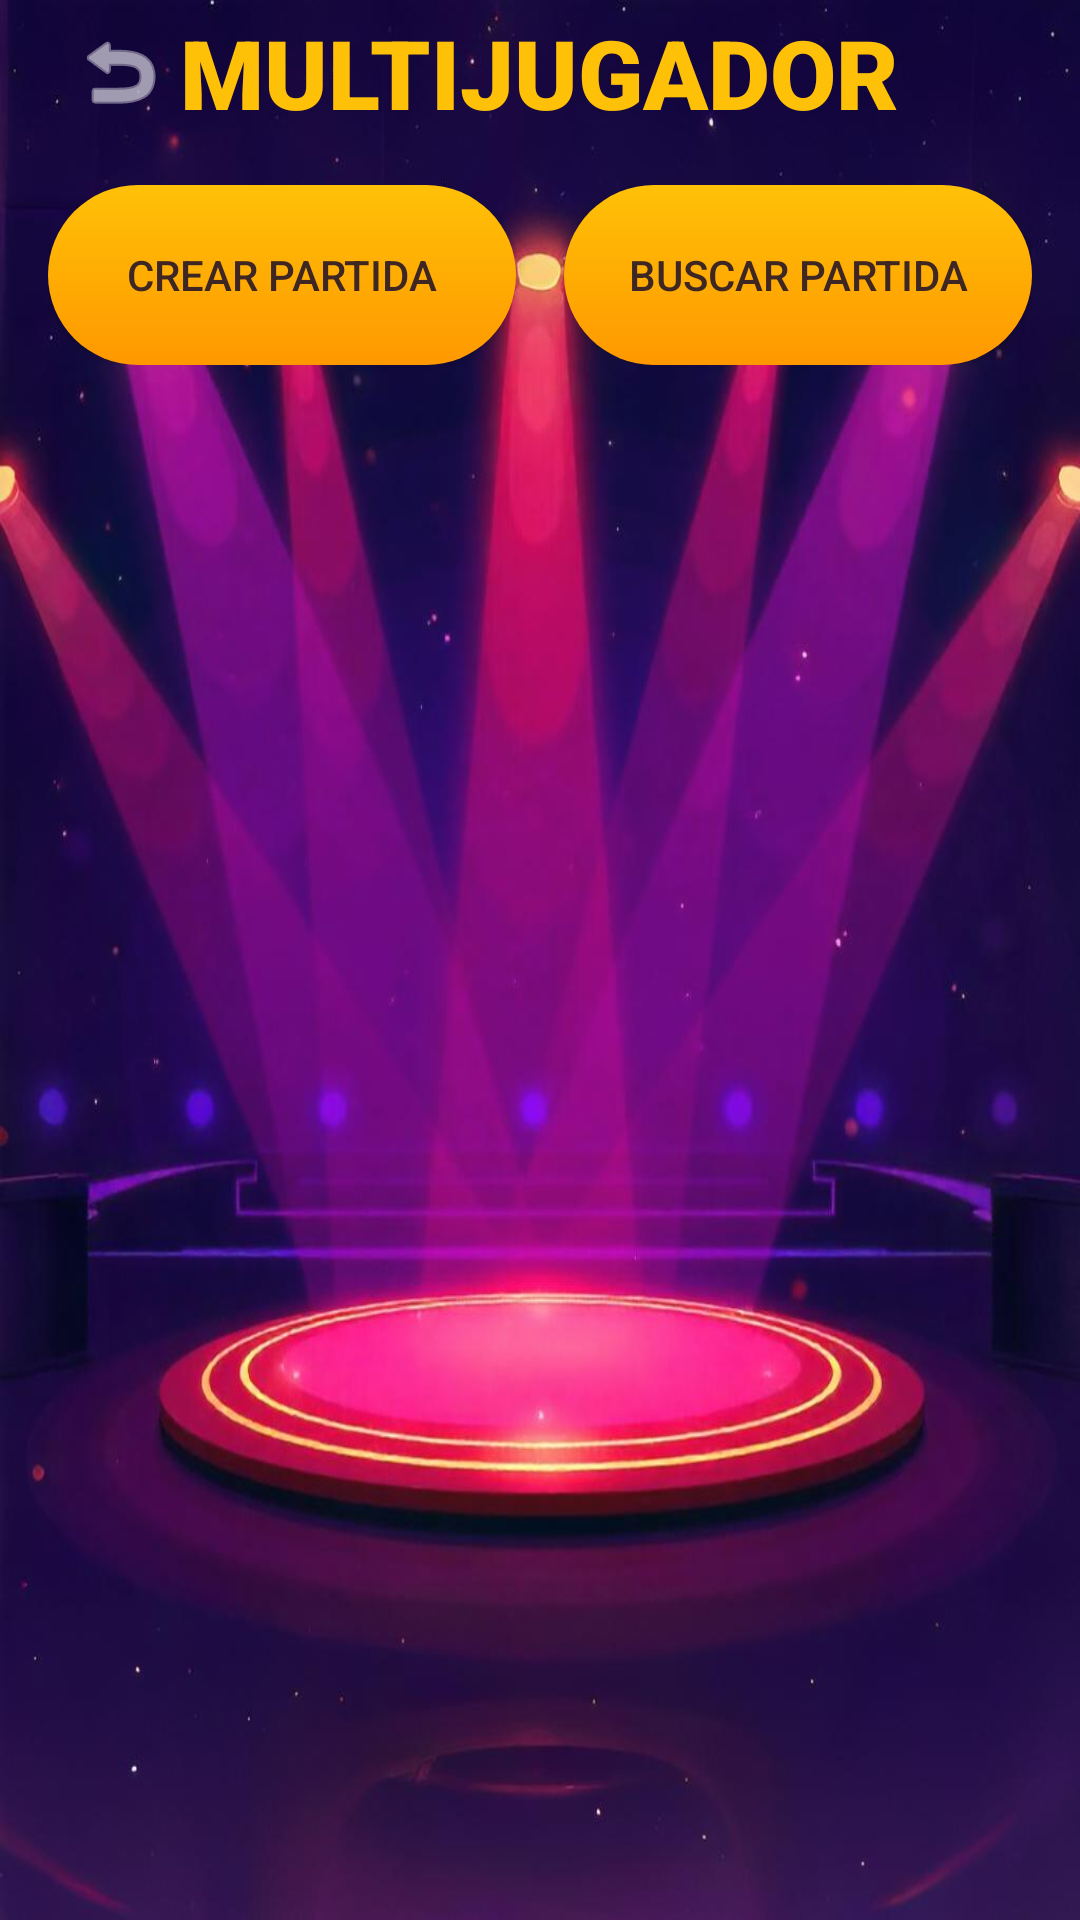

Where icons sit on this 1080*1920 app screen, as (x1, y1, x2, y2):
revert: (56, 41, 169, 111)
